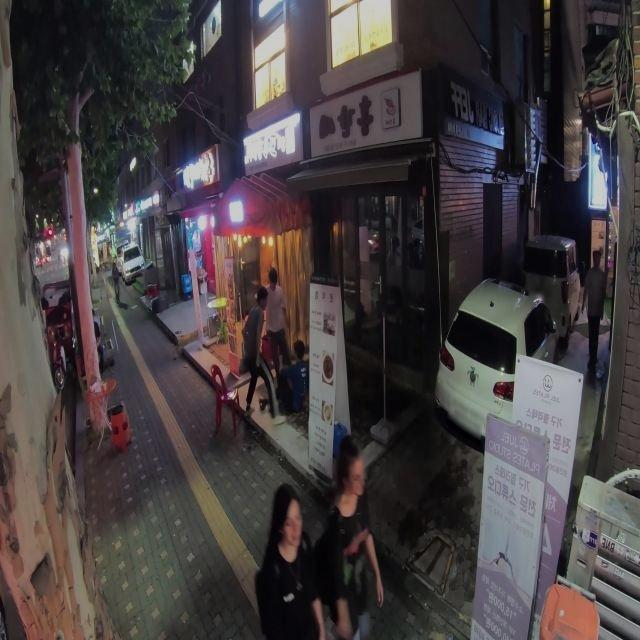non-fight: (315, 434, 385, 639), (249, 477, 328, 640), (241, 282, 282, 422), (260, 266, 292, 385), (275, 336, 310, 417)
